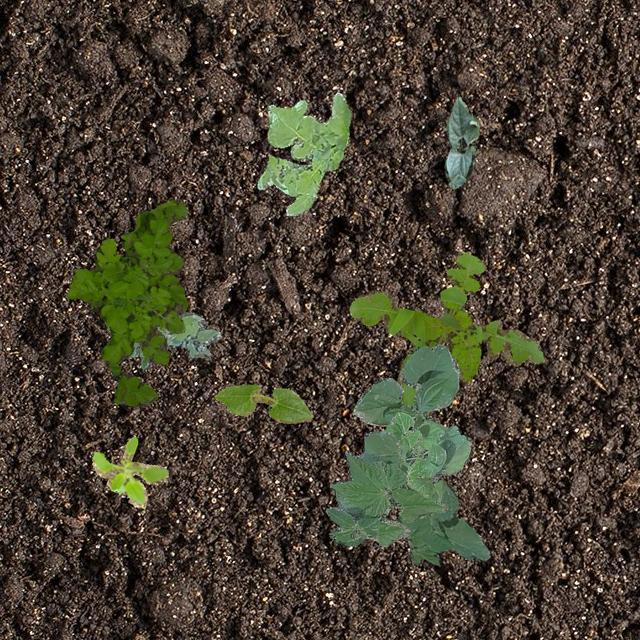crop: (324, 430, 446, 546), (352, 342, 458, 430), (382, 411, 468, 502), (214, 383, 312, 422), (443, 96, 478, 188)
weed: (348, 250, 544, 408), (66, 198, 186, 406), (256, 92, 350, 215), (396, 484, 488, 564), (90, 436, 168, 508), (127, 311, 220, 368)
